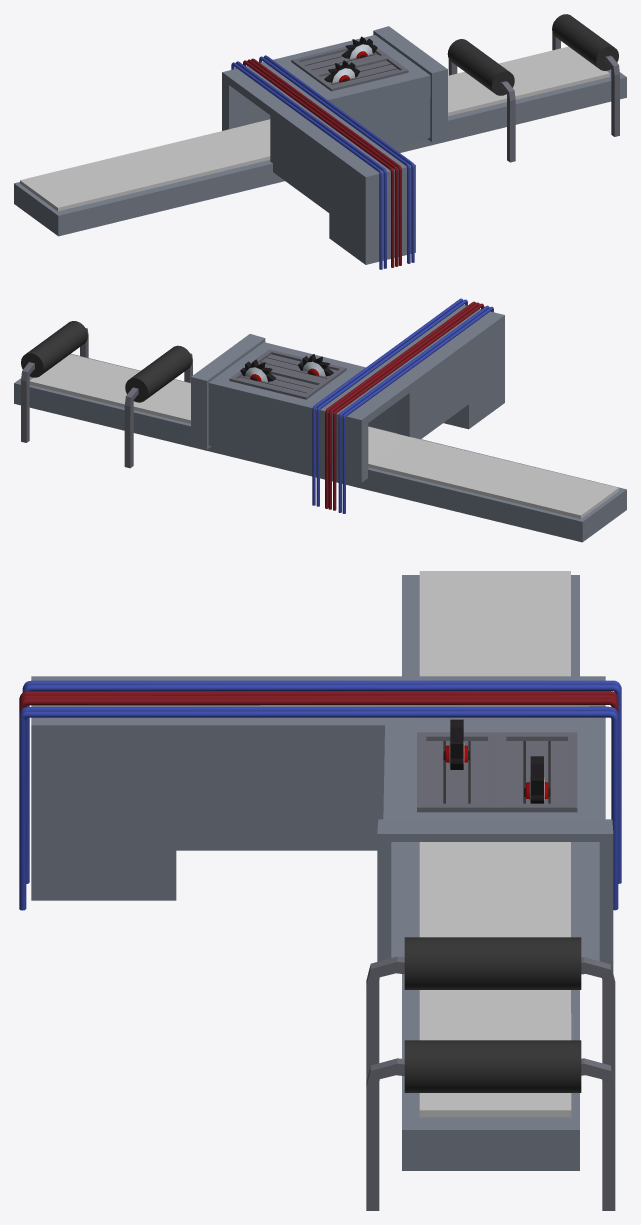
Rendered from factory.fbx.
3 views of the same model, one above another, from view 1: azimuth 30°, elevation 25°; view 2: azimuth 150°, elevation 25°; view 3: azimuth 270°, elevation 25° (orthographic). The views are drawn at different scales.
Parts seen in each view (by area): view 1: squarepipe, conv, nurbsToPoly1.001, pCylinder35, nurbsToPoly1.002, Cube.002, pCube271, saw2, saw1; view 2: squarepipe, conv, nurbsToPoly1.001, pCylinder35, nurbsToPoly1.002, Cube.002, pCube271, saw2, saw1; view 3: squarepipe, conv, pCylinder35, nurbsToPoly1.001, Cube.002, nurbsToPoly1.002, pCube271, saw1, saw2.
Boxes of the visible parts, bbox=[...] form: squarepipe: bbox=[14, 26, 626, 264]; conv: bbox=[20, 46, 609, 211]; nurbsToPoly1.001: bbox=[231, 55, 414, 269]; pCylinder35: bbox=[447, 14, 618, 95]; nurbsToPoly1.002: bbox=[243, 58, 401, 267]; Cube.002: bbox=[291, 44, 408, 91]; pCube271: bbox=[448, 22, 619, 162]; saw2: bbox=[341, 36, 377, 59]; saw1: bbox=[324, 60, 359, 82]; squarepipe: bbox=[14, 305, 626, 542]; conv: bbox=[29, 354, 618, 518]; nurbsToPoly1.001: bbox=[312, 298, 493, 513]; pCylinder35: bbox=[21, 321, 192, 402]; nurbsToPoly1.002: bbox=[325, 301, 484, 510]; Cube.002: bbox=[229, 349, 346, 399]; pCube271: bbox=[21, 328, 192, 468]; saw2: bbox=[240, 359, 275, 382]; saw1: bbox=[298, 354, 333, 376]; squarepipe: bbox=[31, 575, 613, 1170]; conv: bbox=[419, 571, 571, 1117]; pCylinder35: bbox=[404, 937, 581, 1092]; nurbsToPoly1.001: bbox=[19, 680, 621, 910]; Cube.002: bbox=[417, 732, 577, 812]; nurbsToPoly1.002: bbox=[19, 691, 618, 713]; pCube271: bbox=[366, 956, 615, 1210]; saw1: bbox=[443, 719, 469, 769]; saw2: bbox=[524, 756, 550, 803].
Bounding box in the file's own units: 3.15 × 0.6301 × 1.44.
